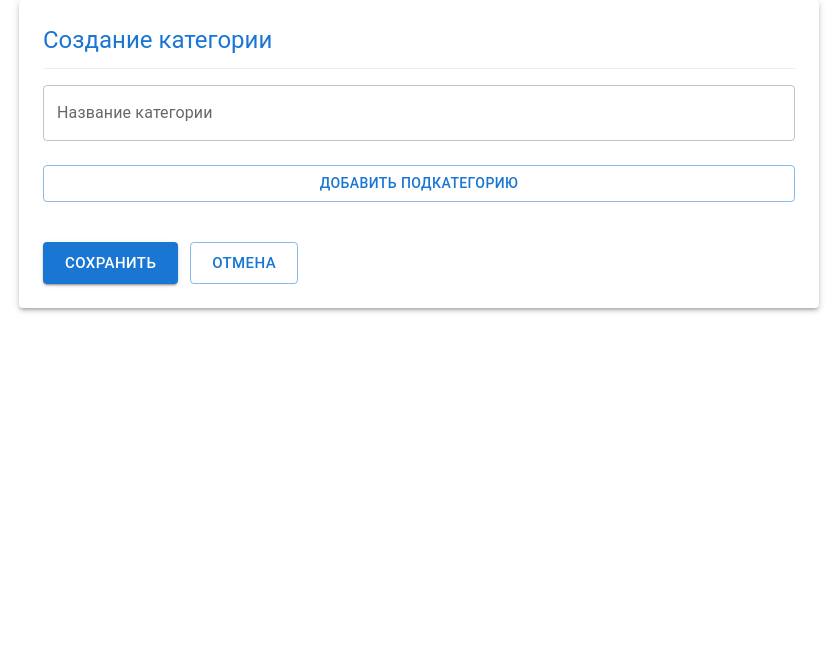
Test case: CategoryForm › adds and removes subcategories
Click the button "Добавить подкатегорию".
click(419, 183)  # box [43,165,795,202]
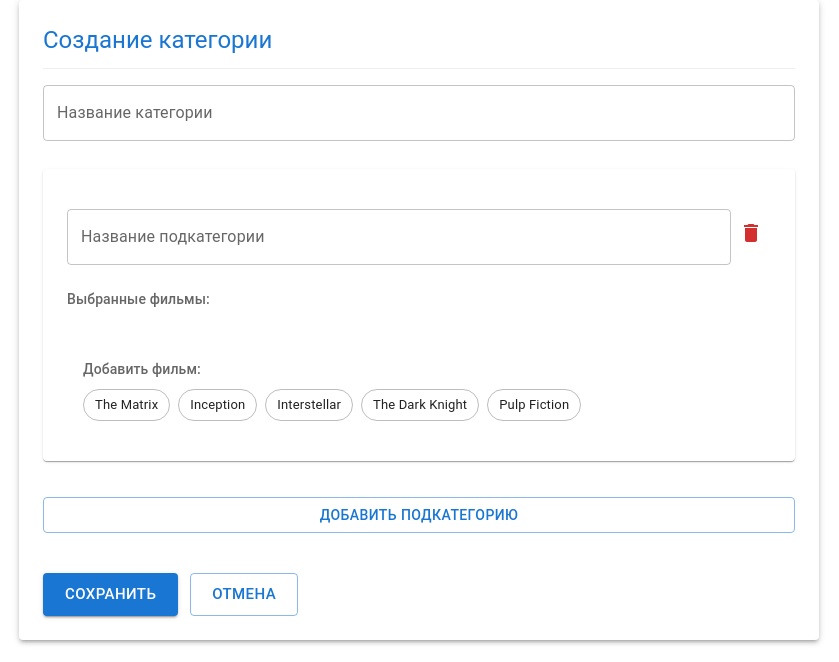
Check: the field labelled "Название подкатегории" is shown, box [67,209,731,265]
Click the 1st button.
click(751, 233)  # box [731,213,771,253]
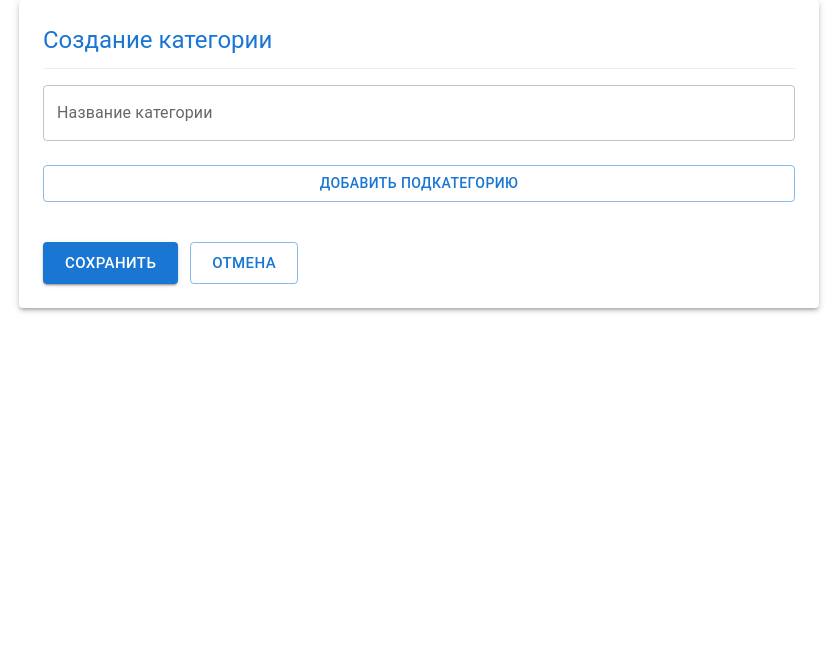
Check: the label labelled "Название подкатегории" is gone
